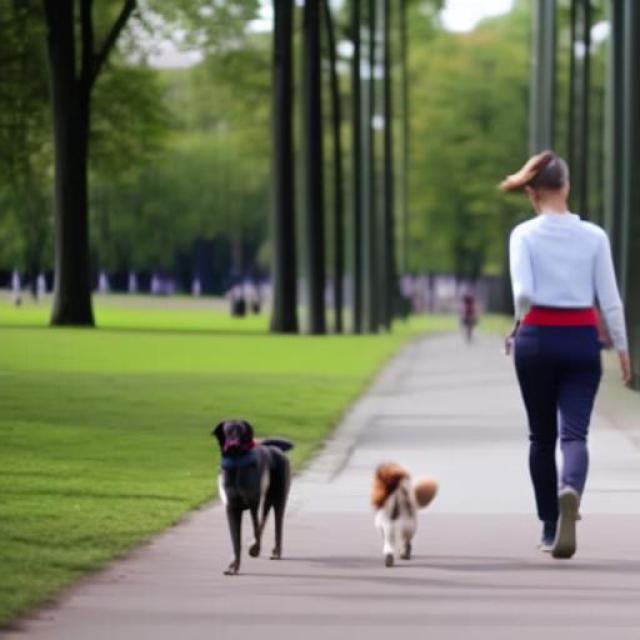Unleashed_Dog: (212, 327, 602, 577), (370, 352, 602, 567)
